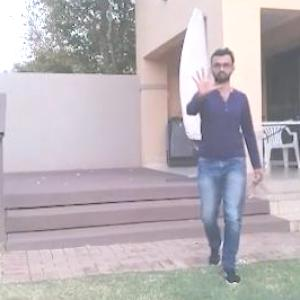follow_hand: (187, 60, 226, 98)
